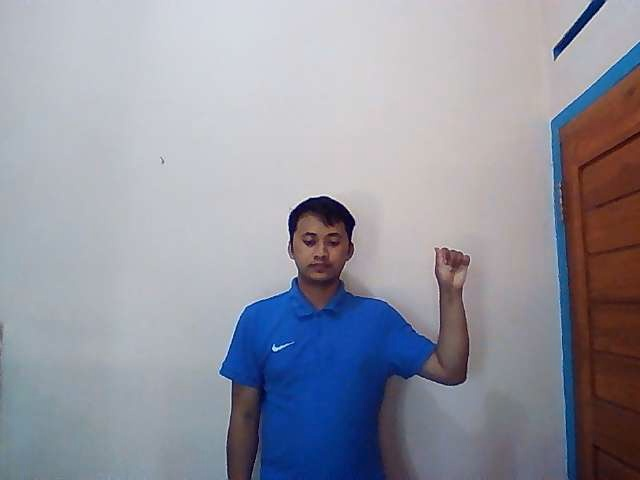A: (433, 246, 470, 289)
